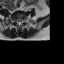CCS_normal: (18, 19, 20, 26)
LFS_normal: (22, 19, 24, 24)
LLS_normal: (20, 20, 22, 25)
RFS_stenosis: (14, 19, 16, 24)
RLS_normal: (16, 19, 18, 25)
